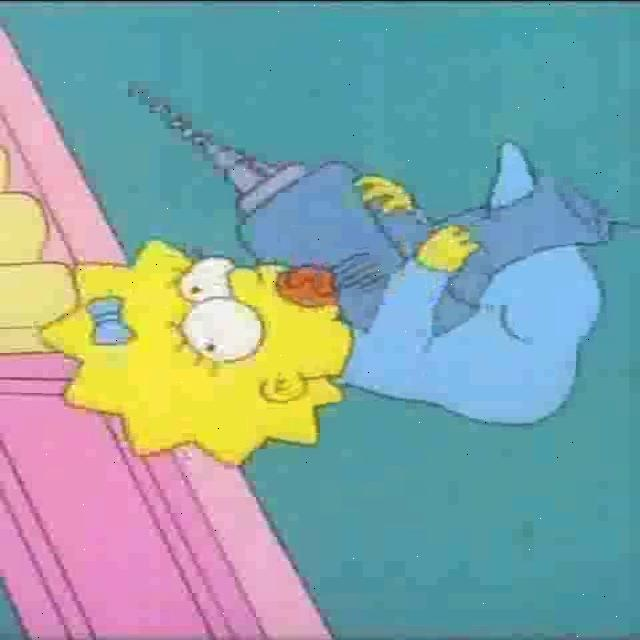Maggie Simpson: (36, 234, 358, 470)
